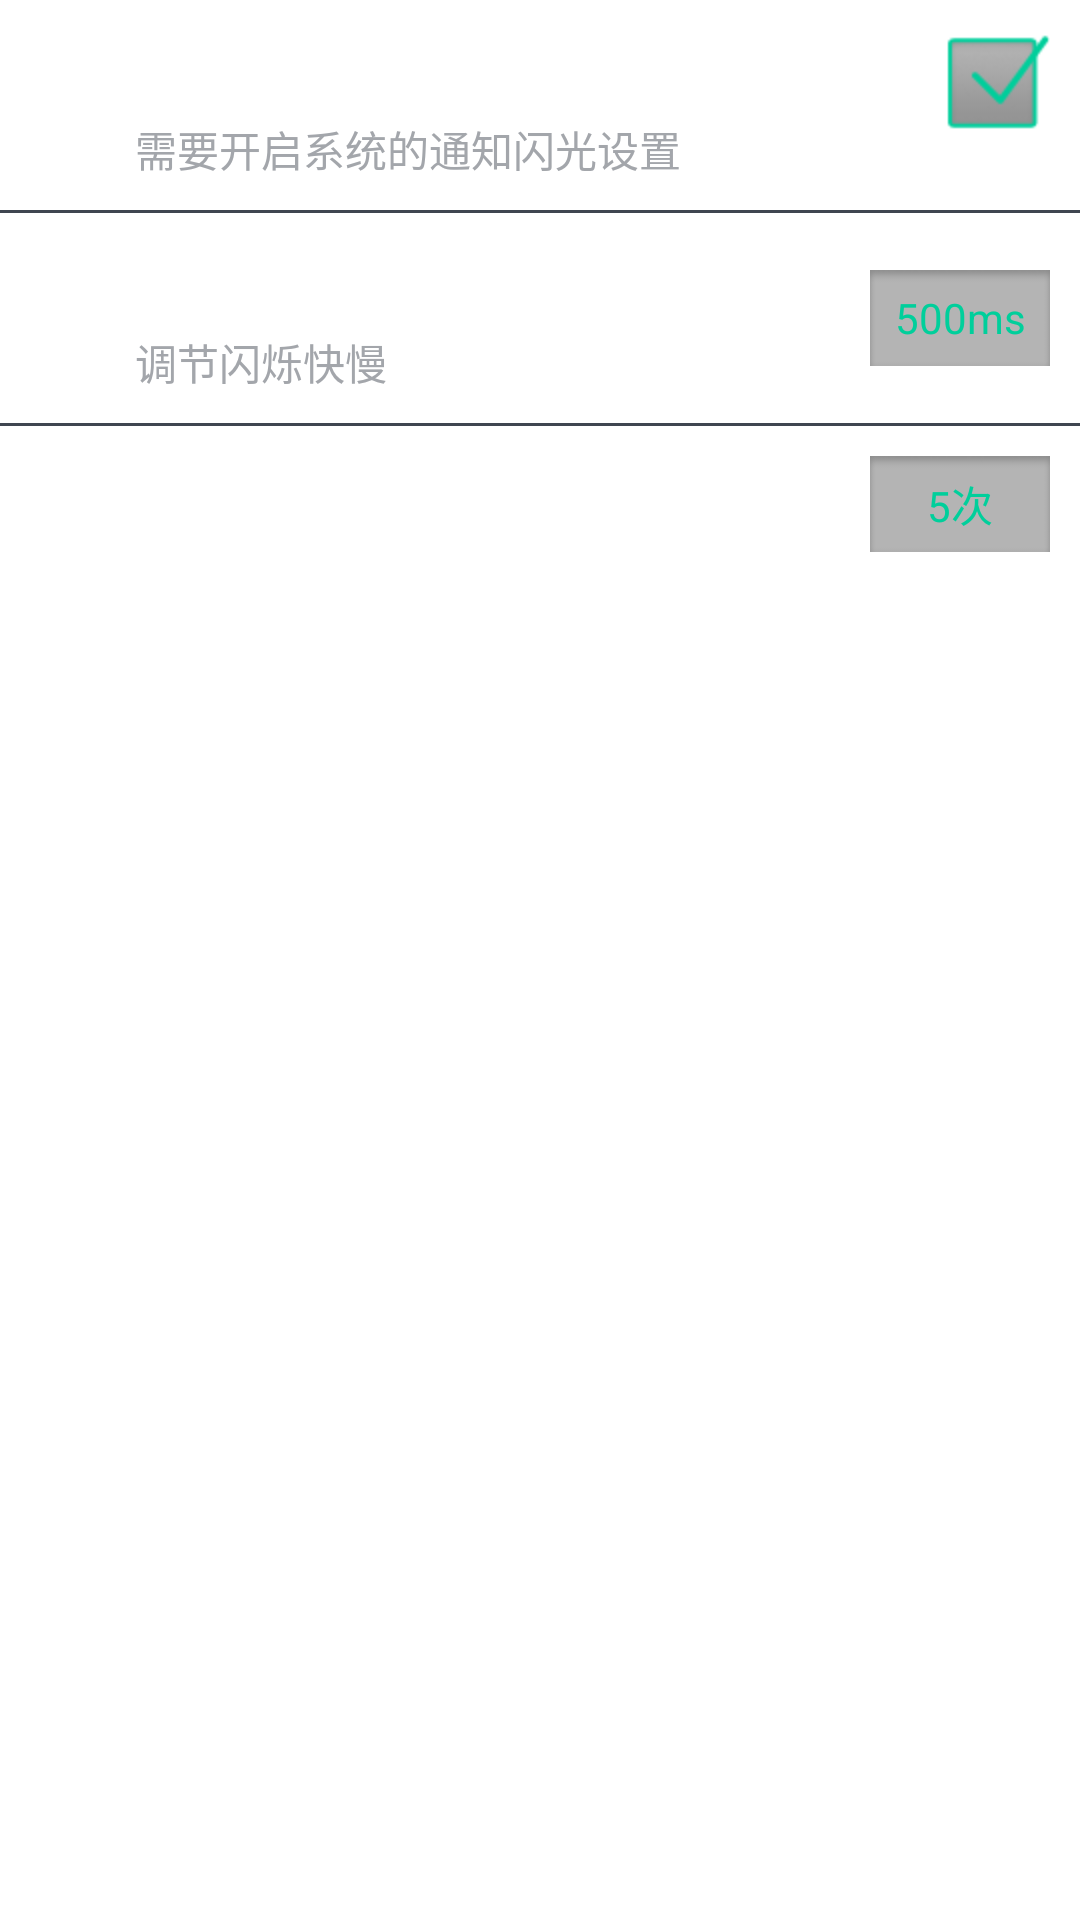

Icon bounding boxes for this 1080px x 1920px phone screenshot, format detection(x1, y1, x2, y2):
checkbox: detection(947, 35, 1050, 129)
